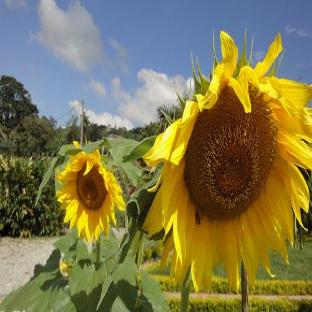sunflower: (141, 31, 312, 294)
